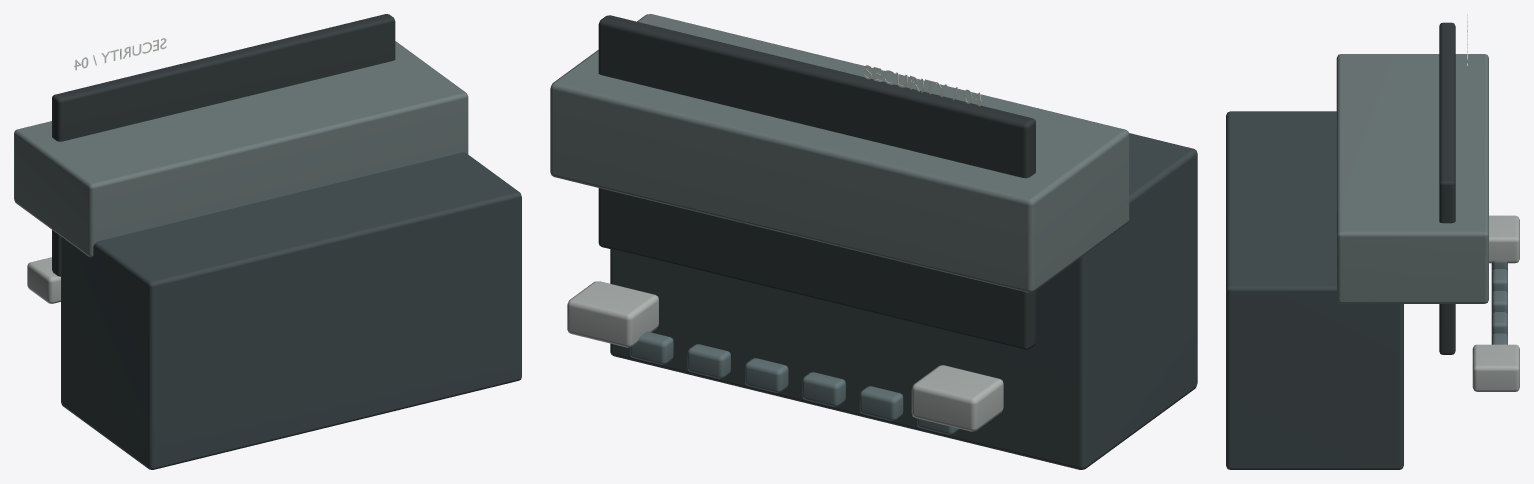
File: security_console.glb
3 renders of one model, left to right at view 1: azimuth 30°, elevation 25°; view 2: azimuth 150°, elevation 25°; view 3: azimuth 270°, elevation 25°, orthographic. The views are drawn at different scales.
Visible parts, largest first — view 1: VIS_security_console_pedestal, VIS_security_console_angled_top, VIS_security_console_screen_bezel, VIS_security_console_toggle_guard_-0.42; view 2: VIS_security_console_angled_top, VIS_security_console_pedestal, VIS_security_console_screen_bezel, VIS_security_console_toggle_guard_-0.42, VIS_security_console_toggle_guard_0.42, VIS_security_console_key_-0.24, VIS_security_console_key_-0.1, VIS_security_console_key_0.18, VIS_security_console_key_0.04, VIS_security_console_key_0.32, VIS_security_console_id; view 3: VIS_security_console_pedestal, VIS_security_console_angled_top, VIS_security_console_screen_bezel, VIS_security_console_toggle_guard_0.42, VIS_security_console_toggle_guard_-0.42, VIS_security_console_key_-0.1, VIS_security_console_key_0.04, VIS_security_console_key_-0.24.
Part boxes in pixels (x1,y1,x2,y2): VIS_security_console_pedestal: (61,152,521,469); VIS_security_console_angled_top: (14,41,468,257); VIS_security_console_screen_bezel: (52,14,395,276); VIS_security_console_toggle_guard_-0.42: (27,257,60,303); VIS_security_console_angled_top: (550,14,1129,292); VIS_security_console_pedestal: (610,133,1197,469); VIS_security_console_screen_bezel: (598,15,1035,349); VIS_security_console_toggle_guard_-0.42: (911,365,1003,431); VIS_security_console_toggle_guard_0.42: (567,281,658,347); VIS_security_console_key_-0.24: (859,386,903,420); VIS_security_console_key_-0.1: (802,372,845,406); VIS_security_console_key_0.18: (687,344,730,378); VIS_security_console_key_0.04: (745,358,788,392); VIS_security_console_key_0.32: (630,331,673,364); VIS_security_console_id: (864,65,981,106); VIS_security_console_pedestal: (1226,111,1403,469); VIS_security_console_angled_top: (1336,54,1488,303); VIS_security_console_screen_bezel: (1439,22,1455,354); VIS_security_console_toggle_guard_0.42: (1472,344,1519,391); VIS_security_console_toggle_guard_-0.42: (1489,215,1519,263); VIS_security_console_key_-0.1: (1491,290,1507,314); VIS_security_console_key_0.04: (1491,312,1507,336); VIS_security_console_key_-0.24: (1491,269,1507,293).
Bounding box in the file's own units: 1.18 × 0.9218 × 0.81.
